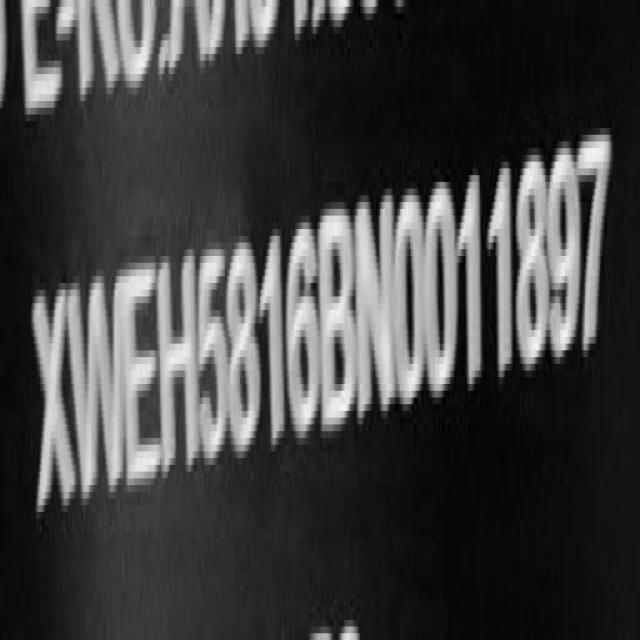0: (425, 173, 461, 406), (395, 184, 429, 415)
1: (487, 152, 515, 394), (261, 226, 289, 462), (456, 162, 481, 397)
5: (195, 241, 232, 476)
6: (288, 215, 322, 446)
7: (579, 119, 615, 364)
8: (518, 147, 552, 381), (226, 236, 260, 463)
9: (550, 143, 582, 366)
B: (320, 200, 357, 436)
E: (124, 254, 164, 494)
H: (158, 250, 198, 490)
N: (354, 184, 397, 421)
W: (70, 264, 127, 514)
X: (33, 279, 76, 526)
